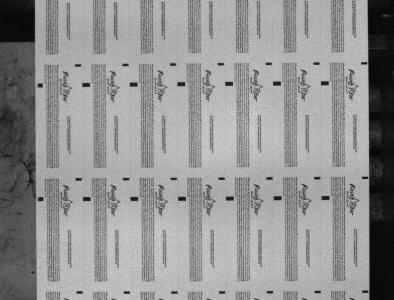backgroundclutter: (31, 271, 35, 274)
qblock: (130, 196, 139, 201), (226, 196, 235, 201), (273, 81, 282, 86), (225, 81, 234, 86), (178, 196, 186, 201), (83, 196, 91, 201), (322, 195, 330, 200), (130, 82, 138, 87), (82, 82, 90, 87), (177, 82, 186, 86), (274, 196, 282, 200), (321, 81, 329, 85), (37, 83, 43, 87), (38, 197, 44, 201)
smallqblock: (218, 62, 225, 66), (75, 177, 82, 181), (361, 61, 368, 65), (314, 176, 322, 179), (218, 177, 225, 180), (122, 63, 129, 66), (266, 177, 273, 180), (171, 177, 178, 180), (170, 63, 177, 66), (123, 177, 130, 180), (171, 291, 178, 294), (362, 176, 369, 179), (267, 290, 274, 293), (219, 290, 226, 293), (315, 290, 322, 293), (76, 291, 83, 294), (362, 290, 369, 293), (75, 64, 81, 67), (314, 62, 320, 65), (266, 62, 272, 65), (124, 291, 130, 294)
